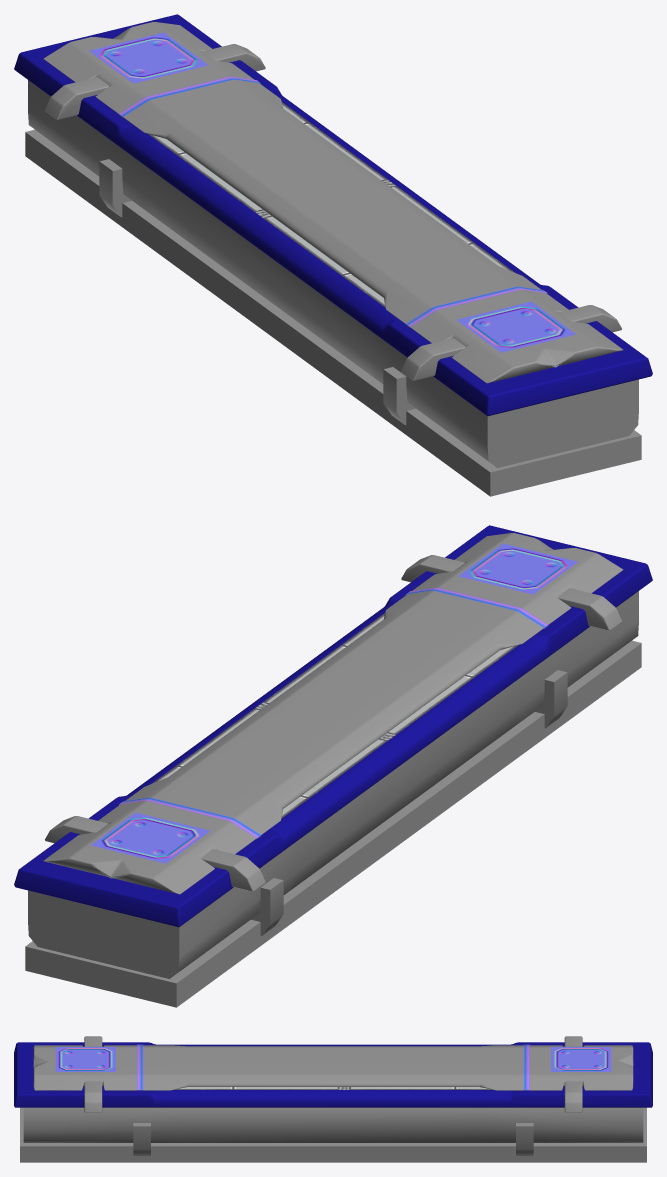
Rendered from MidFloor_01.FBX.
The picture shows the model from 3 angles, top to bottom: view 1: azimuth 30°, elevation 25°; view 2: azimuth 150°, elevation 25°; view 3: azimuth 270°, elevation 25°; orthographic projection. The views are drawn at different scales.
Parts seen in each view (by area): view 1: Box003, SM_MidFloor_006, SM_MidFloor_002, Object001, Box029, Box030; view 2: Box003, SM_MidFloor_006, SM_MidFloor_002, Object001, Box029, Box030; view 3: SM_MidFloor_006, Box003, SM_MidFloor_002, Object001, Box029, Box030.
Boxes of the visible parts, x1,y1,x2,y2 form: Box003: (43,22,623,383); SM_MidFloor_006: (25,80,641,496); SM_MidFloor_002: (14,14,652,416); Object001: (89,32,576,352); Box029: (44,44,621,380); Box030: (118,76,548,327); Box003: (43,533,623,894); SM_MidFloor_006: (25,591,641,1007); SM_MidFloor_002: (14,525,652,927); Object001: (90,543,577,863); Box029: (45,555,622,891); Box030: (118,587,548,838); SM_MidFloor_006: (20,1107,646,1162); Box003: (33,1045,633,1090); SM_MidFloor_002: (14,1042,652,1107); Object001: (55,1047,611,1071); Box029: (84,1036,582,1112); Box030: (137,1044,529,1090).
Bounding box in the file's own units: 25.06 × 13.22 × 98.33.
